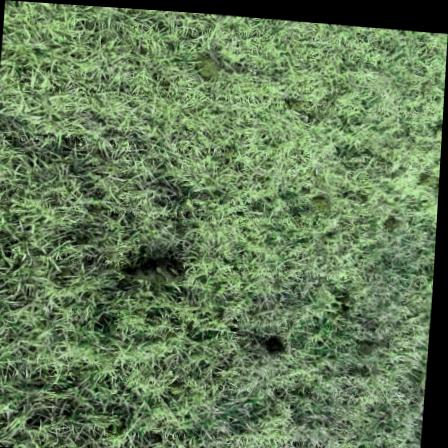dog-poop: (124, 241, 195, 287)
